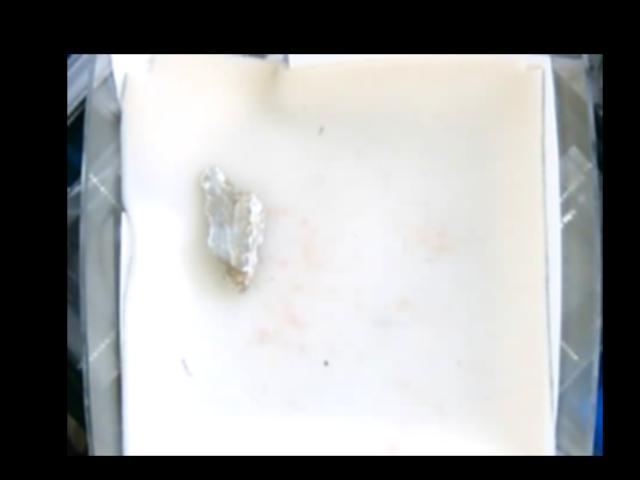Brisk: (201, 167, 262, 293)
